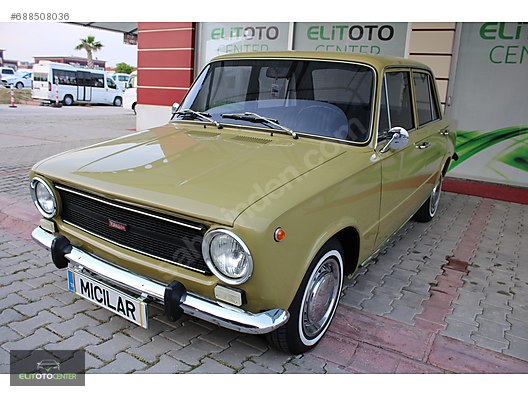murat: (27, 53, 458, 352)
